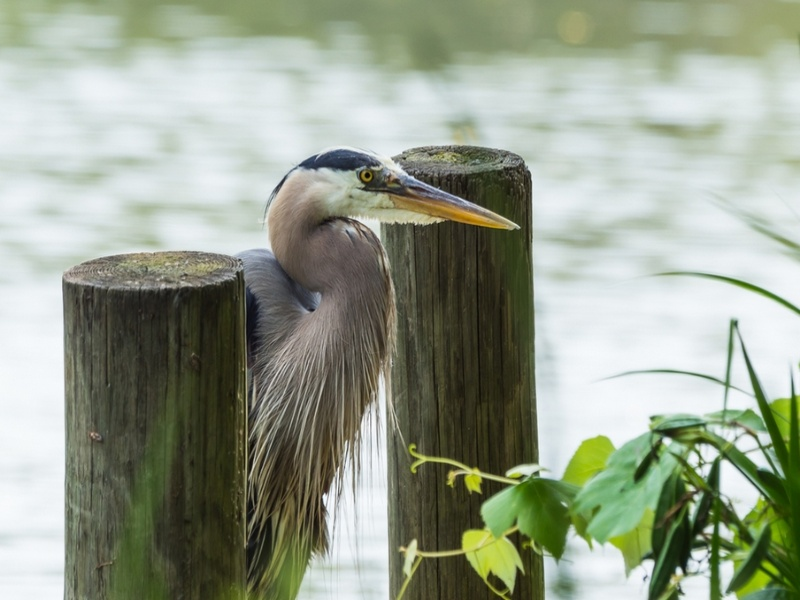heron: (245, 147, 525, 589)
